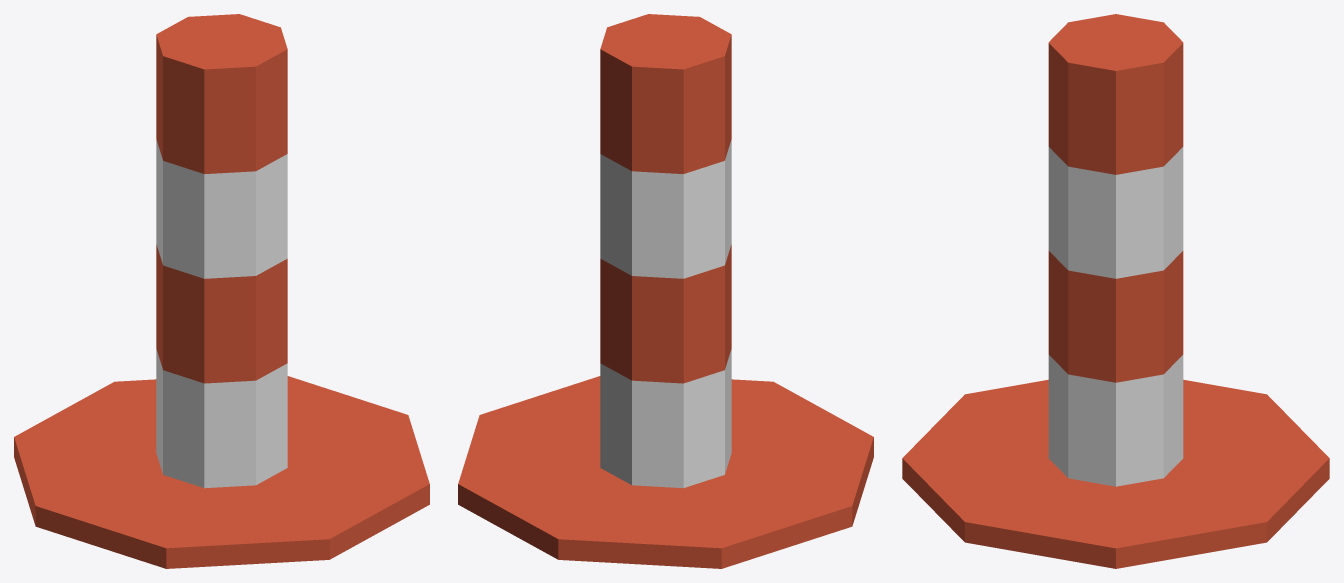
3 views of the same model, side by side, from view 1: azimuth 30°, elevation 25°; view 2: azimuth 150°, elevation 25°; view 3: azimuth 270°, elevation 25° (orthographic).
Parts seen in each view (by area): view 1: Cone_02; view 2: Cone_02; view 3: Cone_02.
Part boxes in pixels (x1,y1,x2,y2): Cone_02: (14,14,429,568); Cone_02: (458,14,873,568); Cone_02: (902,14,1329,568).
Bounding box in the file's own units: 258 × 291 × 258.
